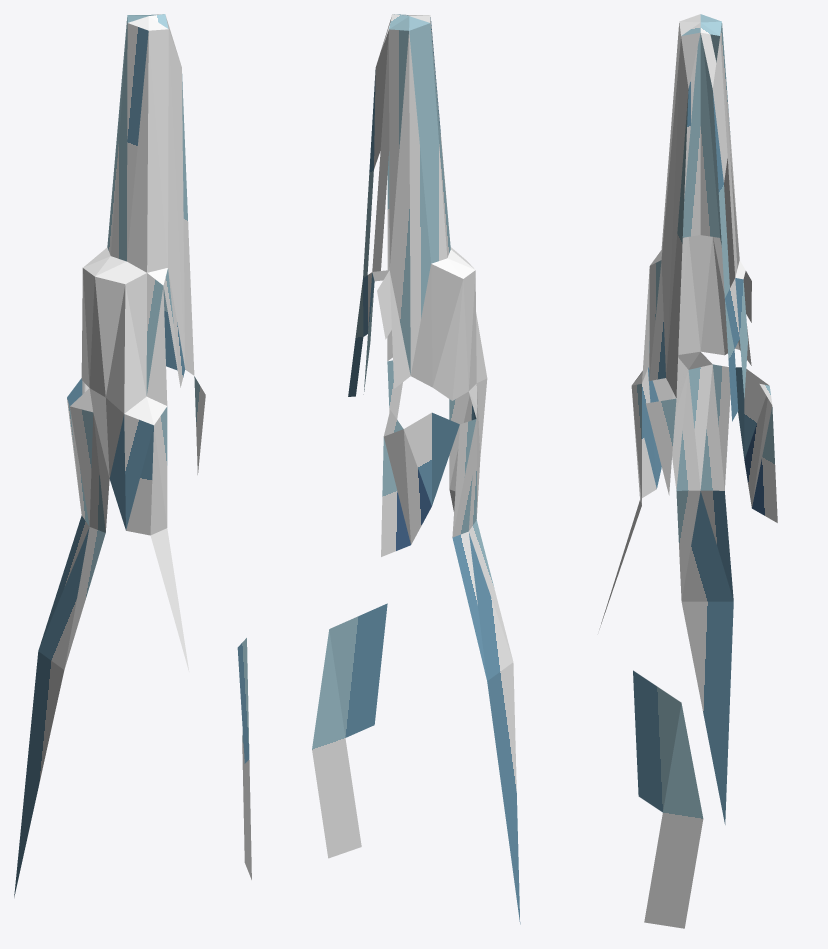
Rendered from terrainStonePillarLarge1.fbx.
3 renders of one model, left to right at view 1: azimuth 30°, elevation 25°; view 2: azimuth 150°, elevation 25°; view 3: azimuth 270°, elevation 25°, orthographic.
Parts seen in each view (by area): view 1: pillar; view 2: pillar; view 3: pillar.
Part boxes in pixels (x1=…): pillar: x1=14, y1=14, x2=251, y2=897; pillar: x1=312, y1=14, x2=520, y2=924; pillar: x1=599, y1=14, x2=777, y2=928.
Bounding box in the file's own units: 862 × 3204 × 836.
